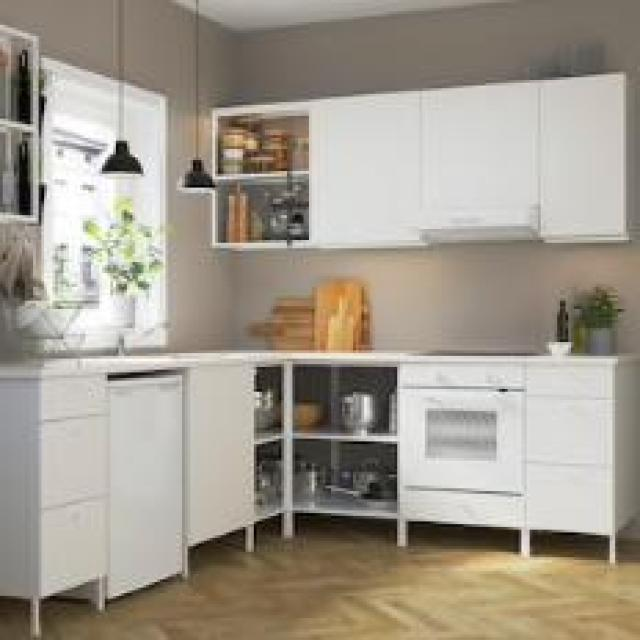dishwasher: (105, 367, 182, 601)
